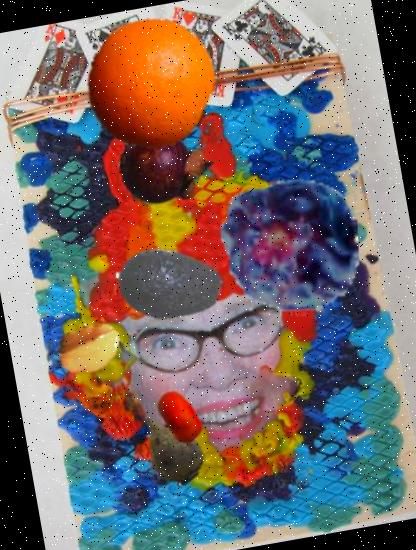Avocado: (107, 221, 232, 346)
Beetroot: (124, 402, 217, 495)
Carambula: (50, 308, 128, 386)
Dates: (210, 166, 369, 324)
Mangostan: (112, 115, 218, 222)
Nectarine: (146, 384, 210, 449)
Orange: (73, 6, 224, 157)
